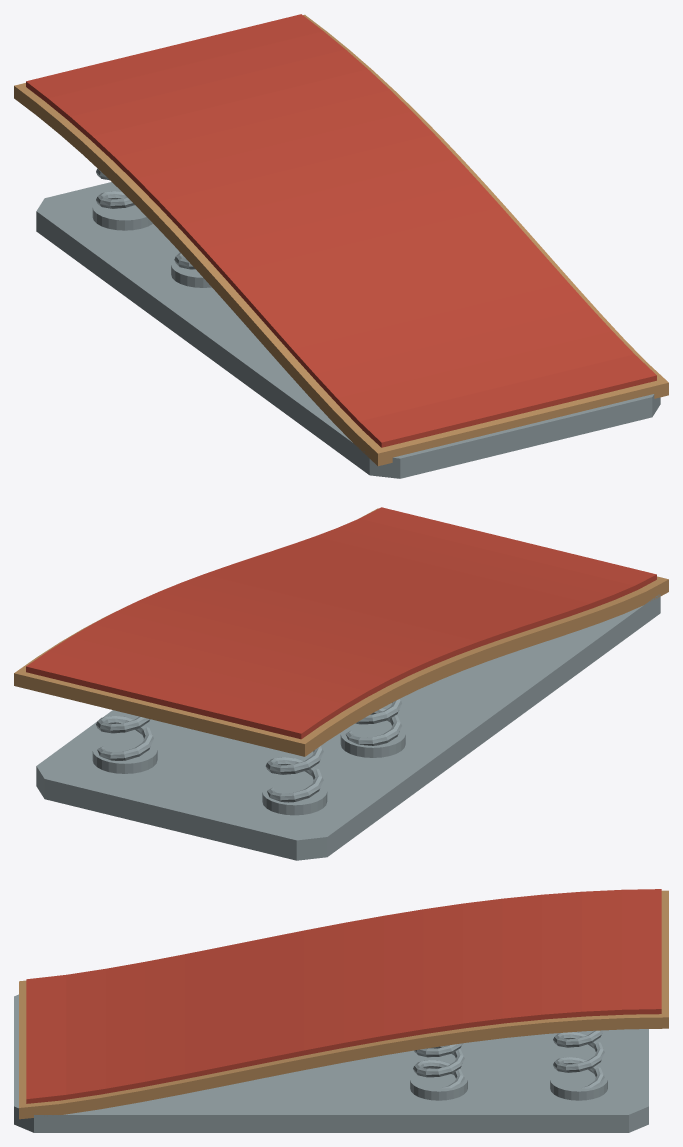
The picture shows the model from 3 angles, top to bottom: view 1: azimuth 30°, elevation 25°; view 2: azimuth 150°, elevation 25°; view 3: azimuth 270°, elevation 25°; orthographic projection. The views are drawn at different scales.
Visible parts, largest first — view 1: WholeContinuousCurvedTopPad, WholeChamferedGroundBase, WholeContinuousCurvedTimberDeck, WholeLowerSpringSocket_3; view 2: WholeContinuousCurvedTopPad, WholeChamferedGroundBase, WholeContinuousCurvedTimberDeck, WholeLowerSpringSocket_4, WholeLowerSpringSocket_3, WholeThreeTurnSupportCoil_3, WholeLowerSpringSocket_1, WholeThreeTurnSupportCoil_4, WholeThreeTurnSupportCoil_1; view 3: WholeContinuousCurvedTopPad, WholeChamferedGroundBase, WholeContinuousCurvedTimberDeck, WholeThreeTurnSupportCoil_4, WholeLowerSpringSocket_4, WholeThreeTurnSupportCoil_2, WholeLowerSpringSocket_2.
Part boxes in pixels (x1,y1,x2,y2): WholeContinuousCurvedTopPad: (26,14,656,447); WholeChamferedGroundBase: (36,182,660,478); WholeContinuousCurvedTimberDeck: (14,14,668,466); WholeLowerSpringSocket_3: (92,201,152,230); WholeContinuousCurvedTopPad: (26,507,656,739); WholeChamferedGroundBase: (36,594,660,860); WholeContinuousCurvedTimberDeck: (14,508,668,756); WholeLowerSpringSocket_4: (92,736,157,773); WholeLowerSpringSocket_3: (262,778,327,815); WholeThreeTurnSupportCoil_3: (265,746,323,802); WholeLowerSpringSocket_1: (340,721,405,757); WholeThreeTurnSupportCoil_4: (96,716,153,760); WholeThreeTurnSupportCoil_1: (345,699,401,745); WholeContinuousCurvedTopPad: (26,889,661,1103); WholeChamferedGroundBase: (14,994,648,1132); WholeContinuousCurvedTimberDeck: (19,890,668,1119); WholeThreeTurnSupportCoil_4: (553,1030,604,1088); WholeLowerSpringSocket_4: (550,1069,607,1100); WholeThreeTurnSupportCoil_2: (413,1043,464,1088); WholeLowerSpringSocket_2: (410,1068,467,1100).
Bounding box in the file's own units: 0.6 × 0.266 × 1.31.
